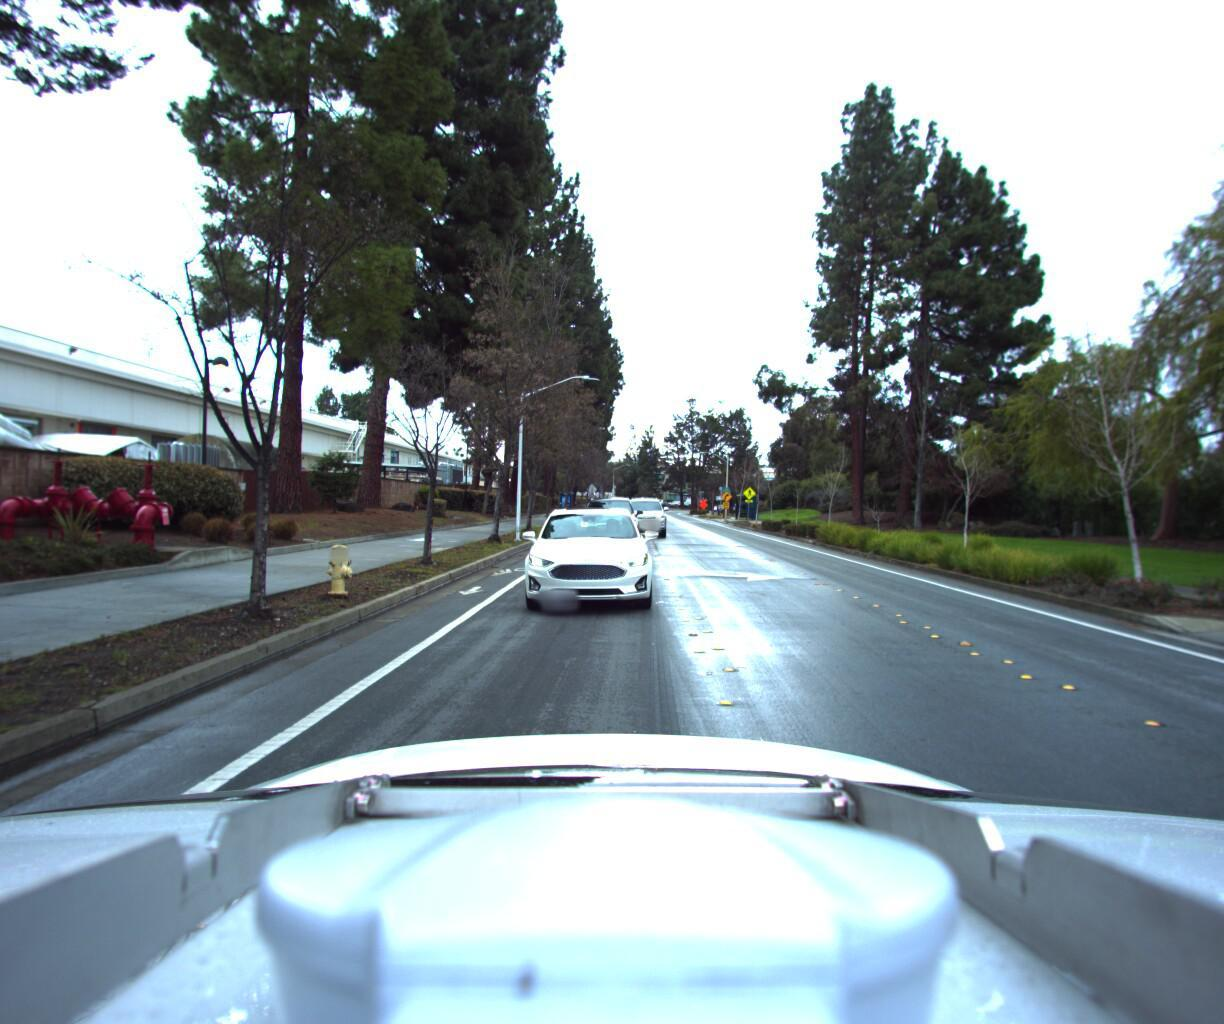car: (519, 494, 659, 615), (580, 493, 641, 548), (618, 496, 667, 540)
